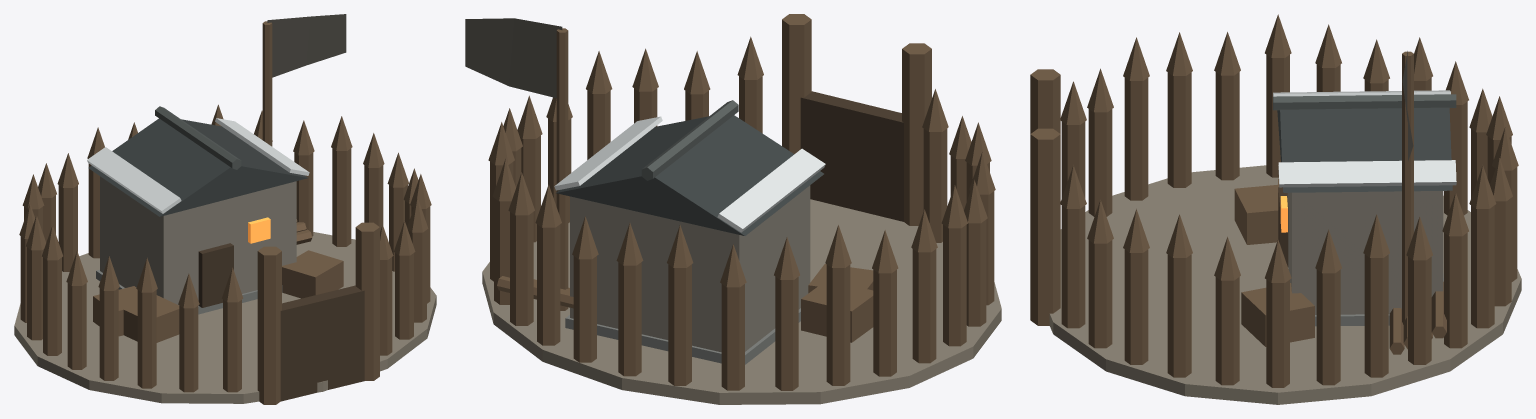
The model's file is bandit-stockade.glb.
3 views of the same model, side by side, from view 1: azimuth 30°, elevation 25°; view 2: azimuth 150°, elevation 25°; view 3: azimuth 270°, elevation 25° (orthographic). The views are drawn at different scales.
Parts seen in each view (by area): view 1: TH_BanditStockade_Ground, TH_BanditStockade_Hut_Walls, TH_BanditStockade_Hut_Roof, TH_BanditStockade_Gate, TH_BanditStockade_GatePost_-0.13, TH_BanditStockade_Pennant_Cloth, TH_BanditStockade_GatePost_+0.13, TH_BanditStockade_Crate_2, TH_BanditStockade_Hut_SnowEdge_-1, TH_BanditStockade_Stake_17, TH_BanditStockade_Stake_2, TH_BanditStockade_Hut_Door (+41 smaller); view 2: TH_BanditStockade_Ground, TH_BanditStockade_Hut_Walls, TH_BanditStockade_Hut_Roof, TH_BanditStockade_Gate, TH_BanditStockade_Pennant_Cloth, TH_BanditStockade_GatePost_-0.13, TH_BanditStockade_GatePost_+0.13, TH_BanditStockade_Hut_SnowEdge_-1, TH_BanditStockade_Stake_11, TH_BanditStockade_Pennant_Pole, TH_BanditStockade_Stake_5, TH_BanditStockade_Stake_14 (+48 smaller); view 3: TH_BanditStockade_Ground, TH_BanditStockade_Hut_Walls, TH_BanditStockade_Hut_Roof, TH_BanditStockade_GatePost_+0.13, TH_BanditStockade_Hut_SnowEdge_+1, TH_BanditStockade_Stake_20, TH_BanditStockade_Stake_2, TH_BanditStockade_Stake_23, TH_BanditStockade_Stake_17, TH_BanditStockade_Stake_5, TH_BanditStockade_Stake_1, TH_BanditStockade_Stake_16 (+49 smaller).
Boxes of the visible parts, x1=… form: TH_BanditStockade_Ground: x1=14, y1=232, x2=436, y2=403; TH_BanditStockade_Hut_Walls: x1=100, y1=176, x2=296, y2=305; TH_BanditStockade_Hut_Roof: x1=88, y1=118, x2=307, y2=216; TH_BanditStockade_Gate: x1=280, y1=285, x2=364, y2=401; TH_BanditStockade_GatePost_-0.13: x1=257, y1=246, x2=281, y2=404; TH_BanditStockade_Pennant_Cloth: x1=267, y1=14, x2=346, y2=77; TH_BanditStockade_GatePost_+0.13: x1=355, y1=222, x2=379, y2=380; TH_BanditStockade_Crate_2: x1=282, y1=250, x2=343, y2=298; TH_BanditStockade_Hut_SnowEdge_-1: x1=87, y1=147, x2=181, y2=213; TH_BanditStockade_Stake_17: x1=137, y1=290, x2=156, y2=388; TH_BanditStockade_Stake_2: x1=332, y1=148, x2=351, y2=246; TH_BanditStockade_Hut_Door: x1=198, y1=243, x2=233, y2=307; TH_BanditStockade_Ground: x1=482, y1=199, x2=1001, y2=404; TH_BanditStockade_Hut_Walls: x1=570, y1=185, x2=810, y2=352; TH_BanditStockade_Hut_Roof: x1=556, y1=115, x2=823, y2=235; TH_BanditStockade_Gate: x1=800, y1=91, x2=903, y2=221; TH_BanditStockade_Pennant_Cloth: x1=465, y1=18, x2=562, y2=98; TH_BanditStockade_GatePost_-0.13: x1=902, y1=43, x2=931, y2=225; TH_BanditStockade_GatePost_+0.13: x1=782, y1=14, x2=811, y2=153; TH_BanditStockade_Hut_SnowEdge_-1: x1=717, y1=148, x2=825, y2=232; TH_BanditStockade_Stake_11: x1=826, y1=264, x2=850, y2=385; TH_BanditStockade_Pennant_Pole: x1=556, y1=28, x2=568, y2=310; TH_BanditStockade_Stake_5: x1=537, y1=224, x2=560, y2=345; TH_BanditStockade_Stake_14: x1=943, y1=224, x2=966, y2=346; TH_BanditStockade_Ground: x1=1049, y1=165, x2=1521, y2=404; TH_BanditStockade_Hut_Walls: x1=1287, y1=191, x2=1443, y2=314; TH_BanditStockade_Hut_Roof: x1=1277, y1=107, x2=1452, y2=192; TH_BanditStockade_GatePost_+0.13: x1=1030, y1=128, x2=1060, y2=325; TH_BanditStockade_Hut_SnowEdge_+1: x1=1278, y1=160, x2=1456, y2=187; TH_BanditStockade_Stake_20: x1=1061, y1=205, x2=1085, y2=328; TH_BanditStockade_Stake_2: x1=1364, y1=254, x2=1388, y2=377; TH_BanditStockade_Stake_23: x1=1167, y1=254, x2=1191, y2=377; TH_BanditStockade_Stake_17: x1=1124, y1=77, x2=1148, y2=200; TH_BanditStockade_Stake_5: x1=1471, y1=205, x2=1494, y2=328; TH_BanditStockade_Stake_1: x1=1316, y1=269, x2=1340, y2=385; TH_BanditStockade_Stake_16: x1=1167, y1=72, x2=1191, y2=187.
Size of the model in its own units: 1 by 0.6075 by 0.908.
